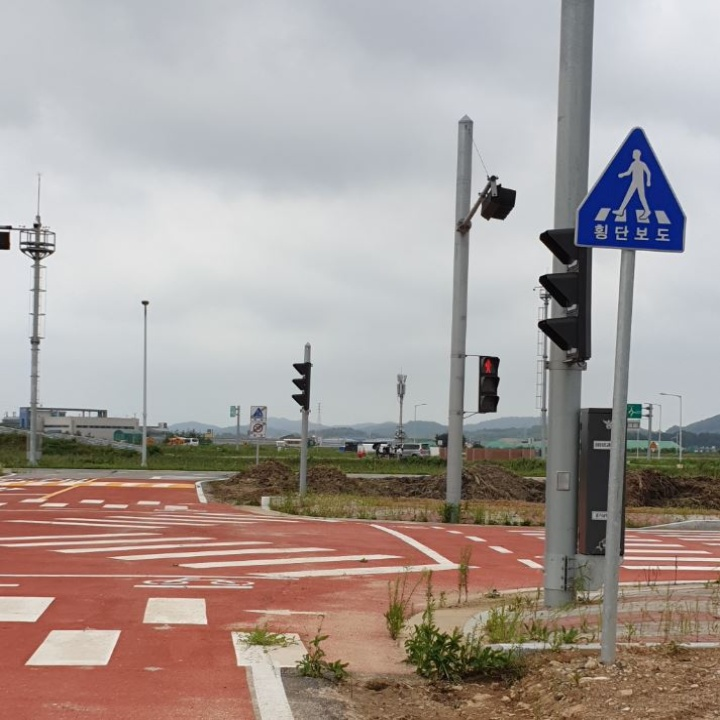cross: (609, 136, 659, 221)
